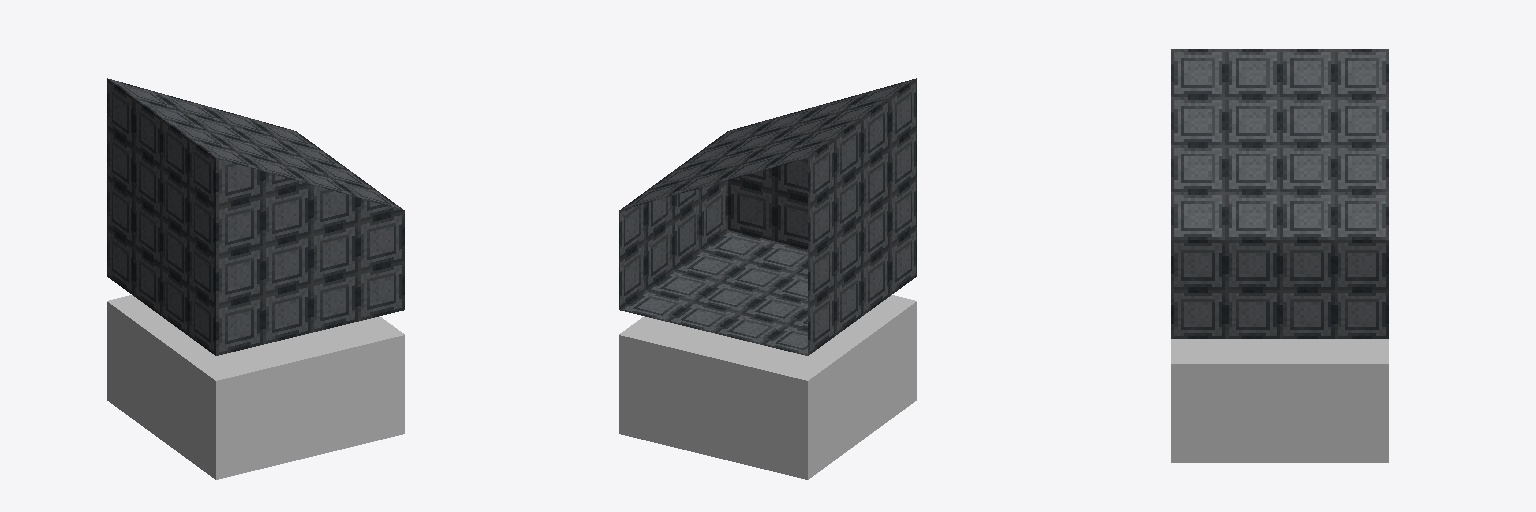
3 views of the same model, side by side, from view 1: azimuth 30°, elevation 25°; view 2: azimuth 150°, elevation 25°; view 3: azimuth 270°, elevation 25° (orthographic).
Parts seen in each view (by area): view 1: cube; view 2: cube; view 3: cube.
Part boxes in pixels (left/top/right/bottom): cube: left=107, top=78, right=404, bottom=479; cube: left=619, top=78, right=916, bottom=479; cube: left=1171, top=49, right=1388, bottom=462.
Size of the model in its own units: 1 by 1.62 by 1.
3 materials, 1 textured.